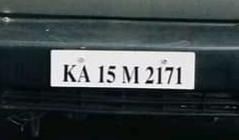1: (96, 63, 105, 84), (156, 65, 164, 86), (176, 66, 184, 86)
2: (143, 64, 156, 85)
5: (106, 62, 118, 84)
7: (163, 64, 175, 85)
A: (78, 61, 92, 87)
K: (60, 61, 78, 85)
M: (121, 63, 140, 85)
